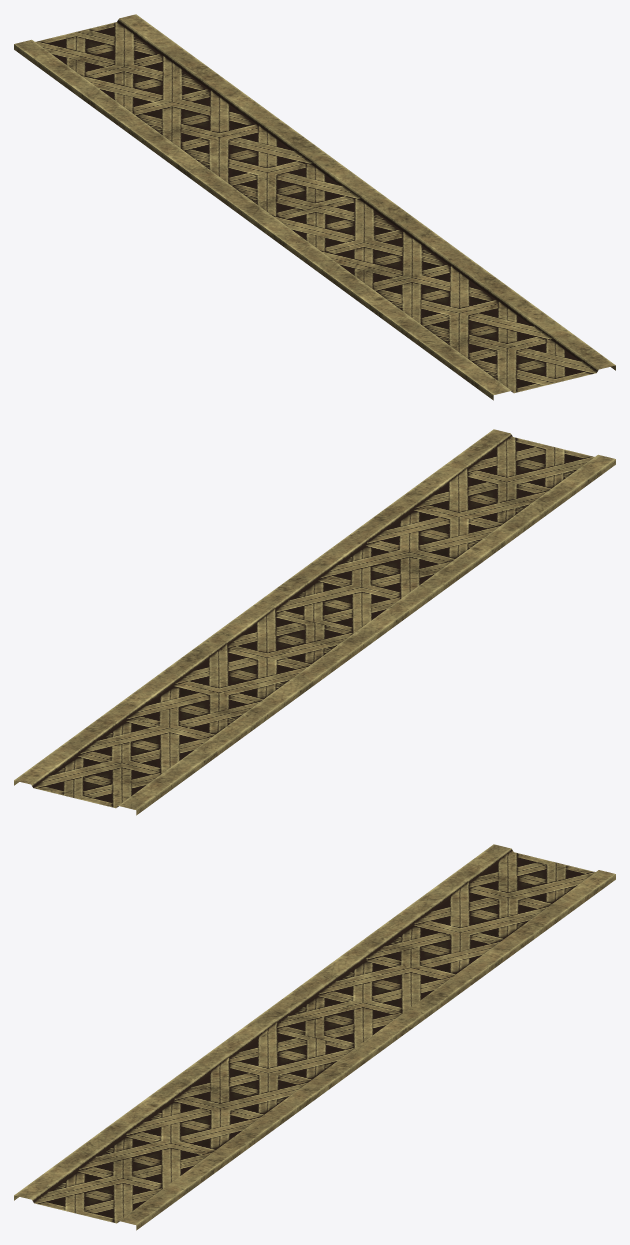
File: SM_Floor_metal1.fbx
3 renders of one model, top to bottom at view 1: azimuth 30°, elevation 25°; view 2: azimuth 150°, elevation 25°; view 3: azimuth 330°, elevation 25°, orthographic.
Parts seen in each view (by area): view 1: SM_Floor_metal1_LOD0; view 2: SM_Floor_metal1_LOD0; view 3: SM_Floor_metal1_LOD0.
Boxes of the visible parts, left/top/right/bottom form: SM_Floor_metal1_LOD0: left=14, top=14, right=615, bottom=400; SM_Floor_metal1_LOD0: left=14, top=429, right=615, bottom=815; SM_Floor_metal1_LOD0: left=14, top=844, right=615, bottom=1230.
Size of the model in its own units: 30.48 by 207 by 1.31.
